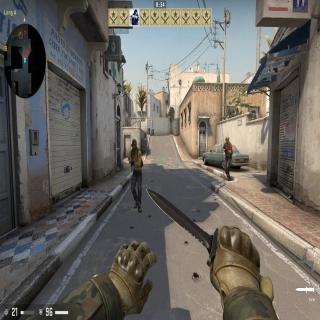T-Body: (127, 138, 146, 212), (222, 135, 234, 181), (122, 123, 124, 126)
T-Head: (131, 139, 137, 151), (225, 136, 229, 143)
